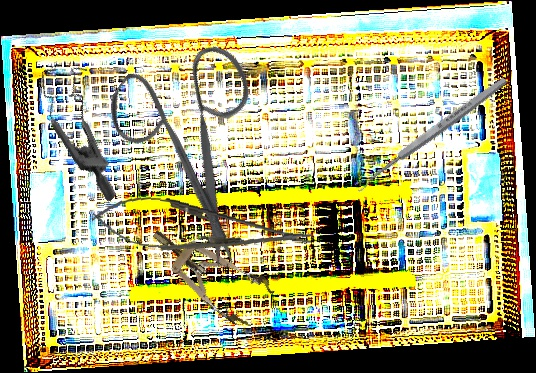Iris Scissors: (65, 10, 333, 276)
Needle Holder: (89, 190, 315, 267)
Speculum: (3, 49, 166, 203), (139, 209, 278, 333)
Surgical Spoon: (353, 75, 509, 193)
